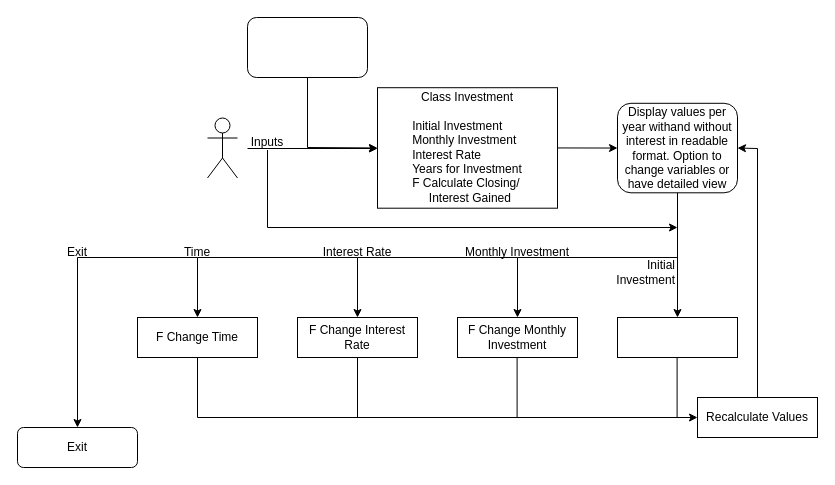
Image size: 835x485. Some labels were removed from this diagram. The box of each missing label's shape, as (x1, y1, x2, y2) in pixels:
F Change Initial Investment: (616, 316, 738, 358)
User: (206, 117, 238, 178)
Welcome GUI and initial prompt: (246, 16, 368, 78)
